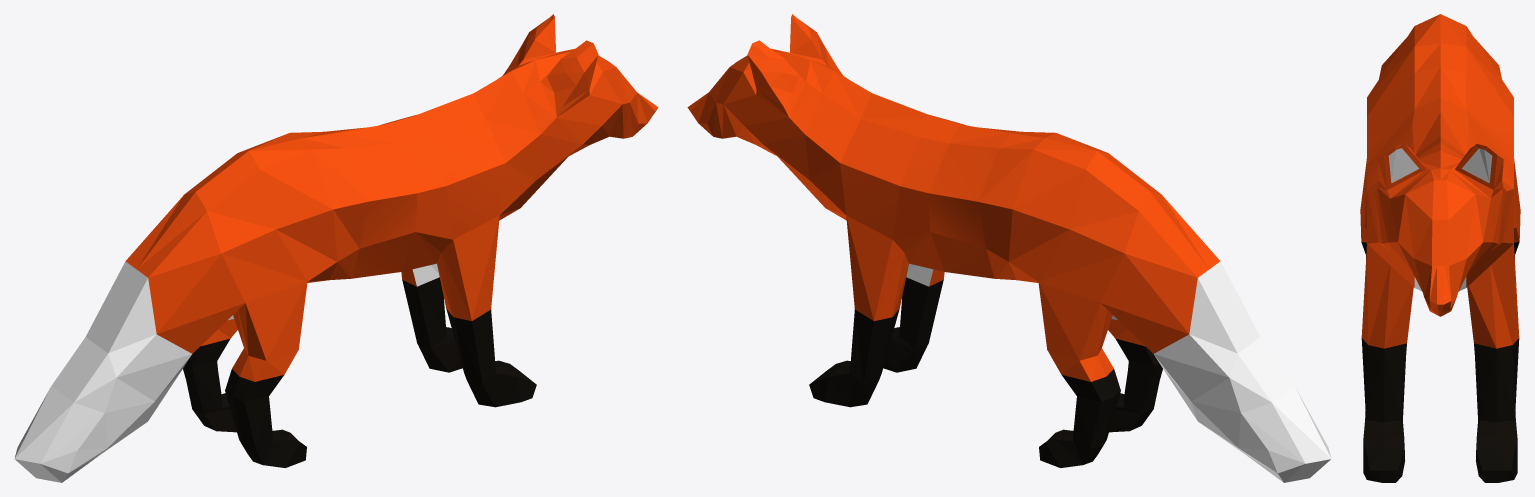
File: LowPolyFoxFinal.FBX
3 renders of one model, left to right at view 1: azimuth 30°, elevation 25°; view 2: azimuth 150°, elevation 25°; view 3: azimuth 270°, elevation 25°, orthographic. The views are drawn at different scales.
Parts seen in each view (by area): view 1: Box001; view 2: Box001; view 3: Box001.
Part boxes in pixels (<box>): Box001: <box>14,14,658,482</box>; Box001: <box>687,14,1331,482</box>; Box001: <box>1360,14,1520,482</box>.
Bounding box in the file's own units: 140 × 70.26 × 26.51.
